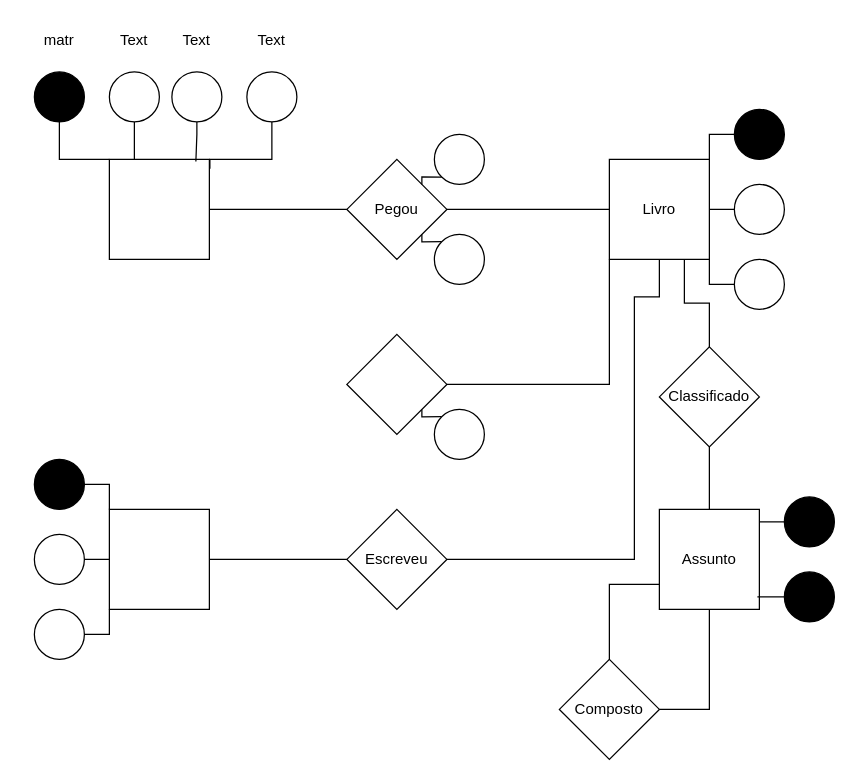
This 856x781 diagram has some shape labels left out. Each missing label, with the box of its shape:
Autor: (108, 508, 209, 609)
Reservou: (346, 333, 447, 434)
Usuário: (108, 158, 209, 259)
